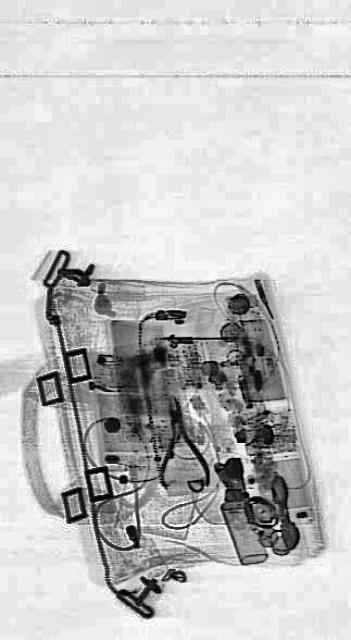Pliers: (148, 388, 210, 500)
